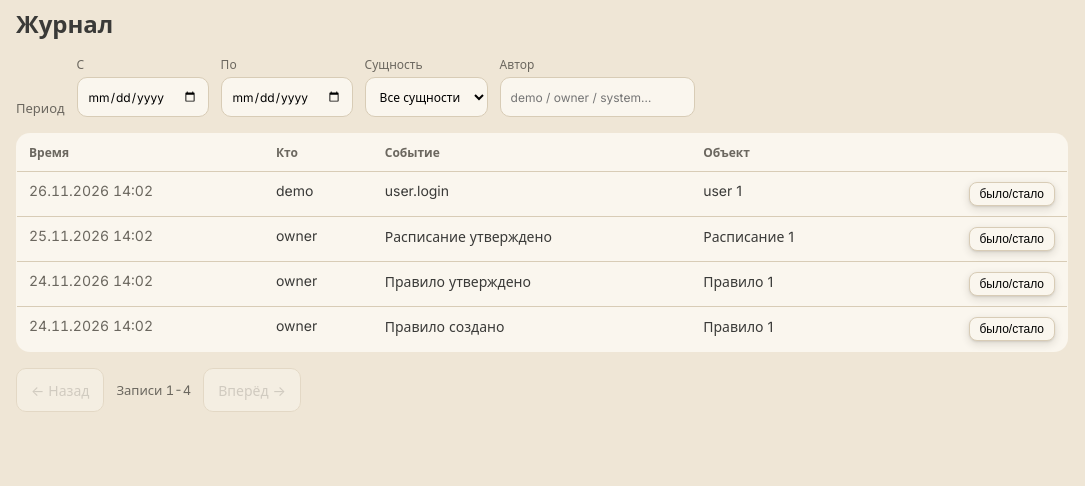
Test case: AuditPage (normal: seed-записи owner) › лента: время, кто, событие словами, объект; раскрытие было/стало
The image size is (1085, 486).
Expected: the text "Правило утверждено" is shown, x1=373 y1=262 x2=691 y2=306
Expected: the text "owner" next to "25.11.2026 14:02" is shown, x1=276 y1=227 x2=317 y2=244
Click the button "было/стало" in the row of "26.11.2026 14:02". click: (1012, 194)
box: x1=968 y1=182 x2=1055 y2=206
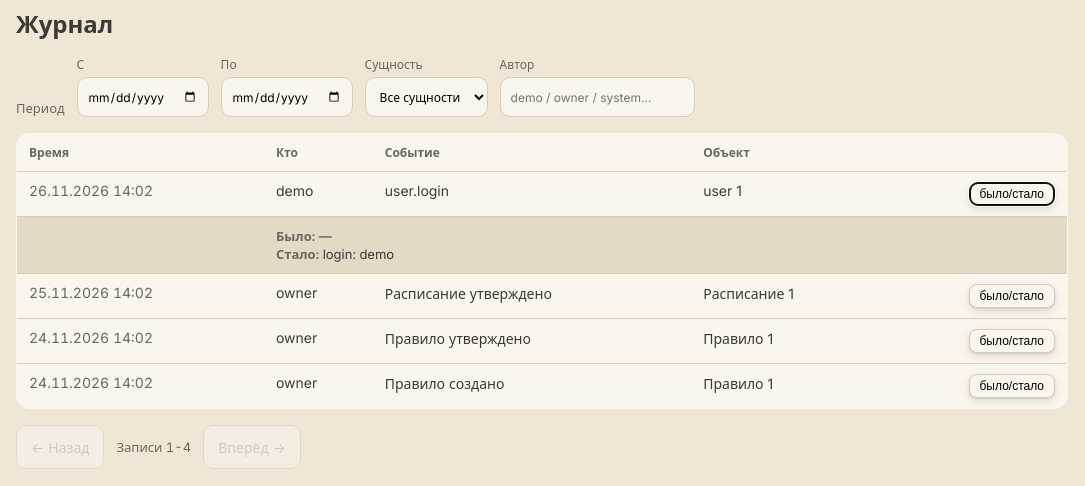
Result: the row with test id "audit-diff" is shown at x1=16 y1=216 x2=1068 y2=274
Result: the text "Было:" is shown at x1=276 y1=228 x2=315 y2=244
Result: the text "Стало:" is shown at x1=276 y1=246 x2=319 y2=262
